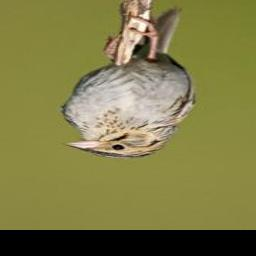Sparrow: (60, 8, 196, 161)
